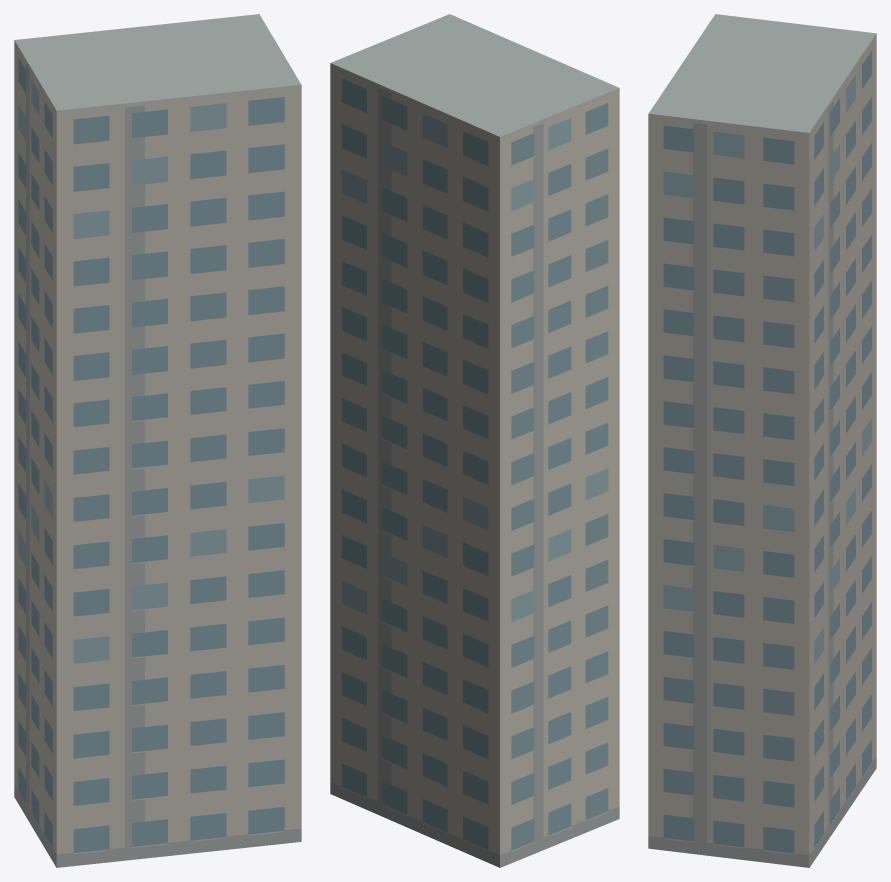
The model's file is residential-42dea611-12eb-4fde-b7a3-8507fcb38eac.glb.
3 renders of one model, left to right at view 1: azimuth 30°, elevation 25°; view 2: azimuth 150°, elevation 25°; view 3: azimuth 270°, elevation 25°, orthographic. The views are drawn at different scales.
Visible parts, largest first — view 1: residential-42dea611-12eb-4fde-b7a3-8507fcb38eac.tmp; view 2: residential-42dea611-12eb-4fde-b7a3-8507fcb38eac.tmp; view 3: residential-42dea611-12eb-4fde-b7a3-8507fcb38eac.tmp.
Part boxes in pixels (bbox=[...]): residential-42dea611-12eb-4fde-b7a3-8507fcb38eac.tmp: bbox=[14, 14, 301, 867]; residential-42dea611-12eb-4fde-b7a3-8507fcb38eac.tmp: bbox=[330, 14, 619, 867]; residential-42dea611-12eb-4fde-b7a3-8507fcb38eac.tmp: bbox=[648, 14, 876, 867].
Bounding box in the file's own units: 16.68 × 48 × 13.51.
